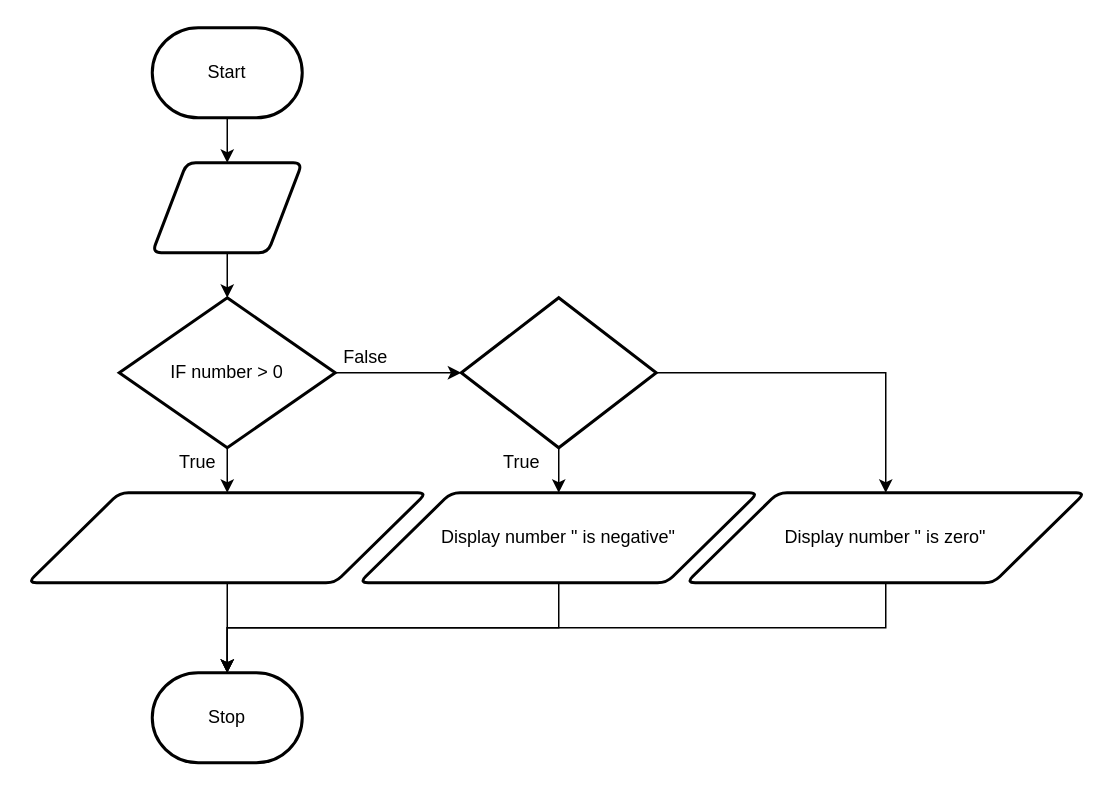
Image size: 1112x789. Some labels were removed from this diagram. Here are the shapes that lost their labels. From the top down, the box of each, then its label:
(150, 160, 303, 254): Get number
(459, 296, 657, 448): IF number < 0
(26, 490, 428, 584): Display number " is positive"
